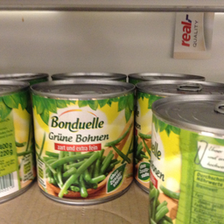beans: (30, 77, 136, 208), (146, 97, 224, 223)
